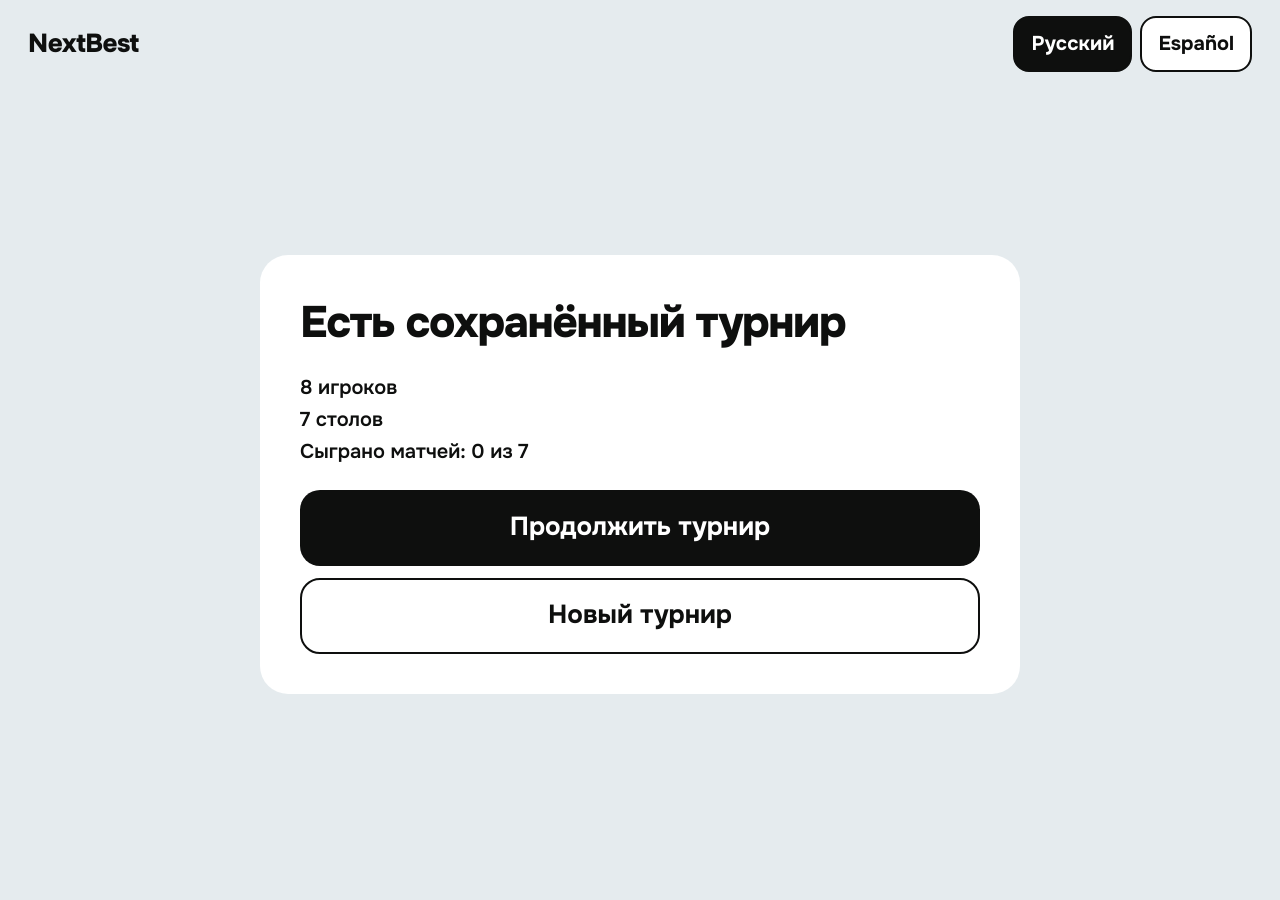
Test: tables grid › shows both players on busy tables, Free on empty ones, and round names
Click the button "Продолжить турнир".
click(640, 528)  # box 300,490 -> 980,566
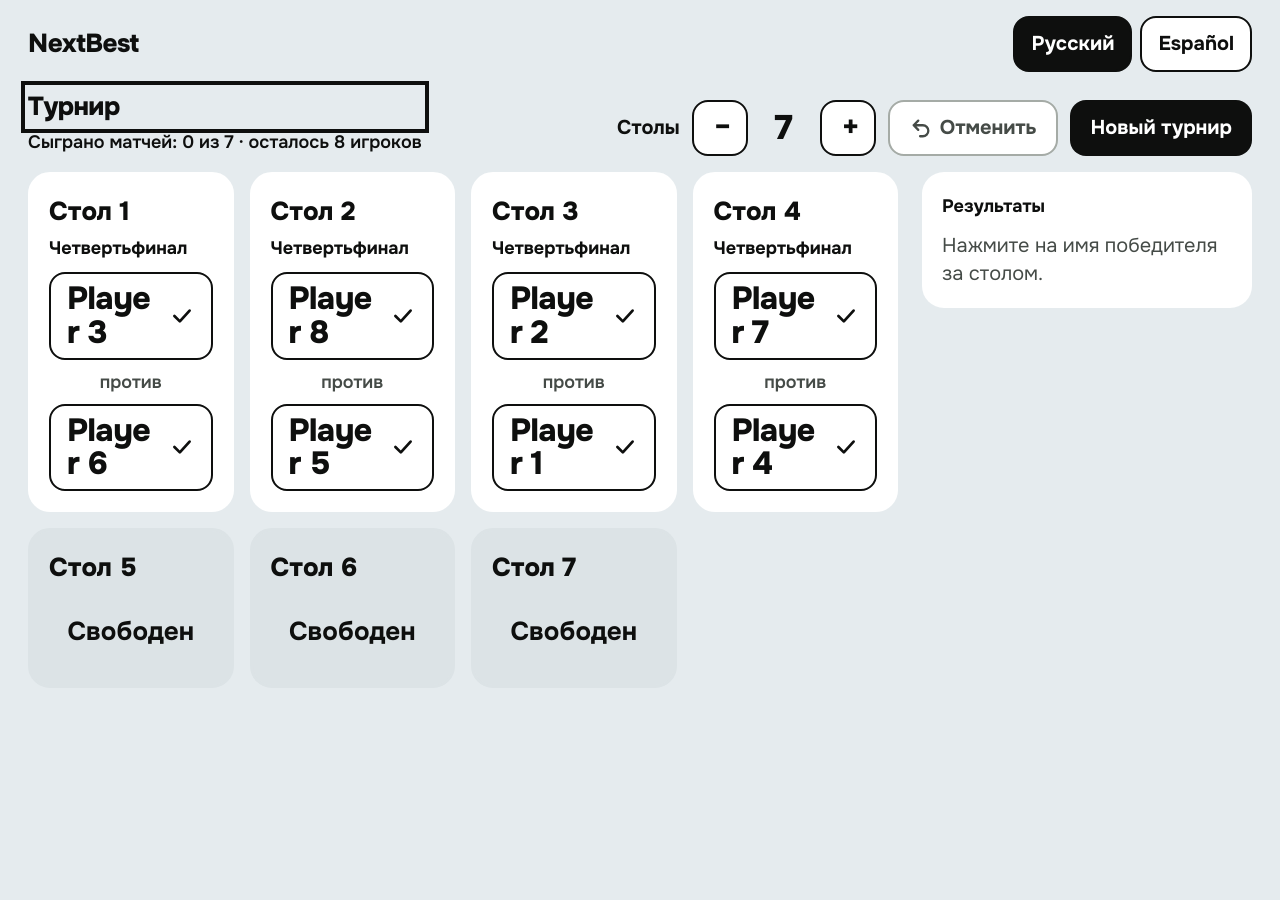
Now the text "Свободен" below "Стол 7" is shown, box 510,615 -> 637,648
Now the text "Четвертьфинал" below "Стол 1" is shown, box 49,237 -> 187,259
Now the text "Четвертьфинал" below "Стол 2" is shown, box 270,237 -> 409,259
